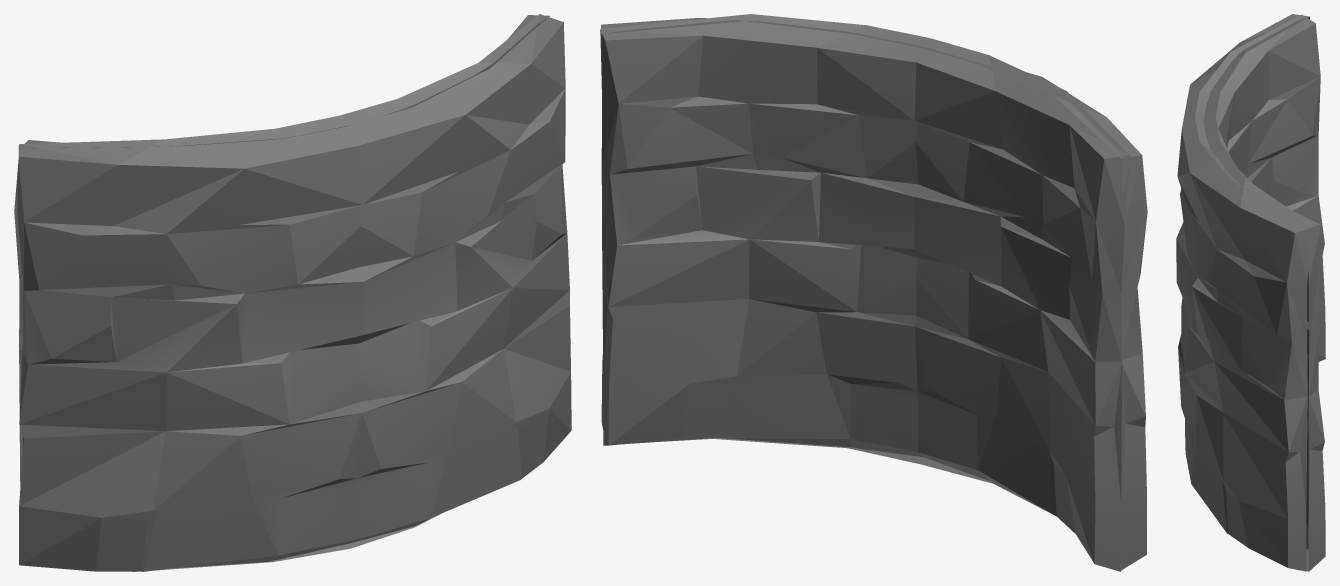
Rendered from stone round wall v2.fbx.
The picture shows the model from 3 angles, left to right: view 1: azimuth 30°, elevation 25°; view 2: azimuth 150°, elevation 25°; view 3: azimuth 270°, elevation 25°; orthographic projection. The views are drawn at different scales.
Visible parts, largest first — view 1: stone_round_wall_v2; view 2: stone_round_wall_v2; view 3: stone_round_wall_v2.
Part boxes in pixels (x1,y1,x2,y2): stone_round_wall_v2: (14,14,571,571); stone_round_wall_v2: (600,14,1147,571); stone_round_wall_v2: (1176,14,1325,571).
Size of the model in its own units: 284 by 210 by 81.15.
Materials: 1 (1 with a texture image).
